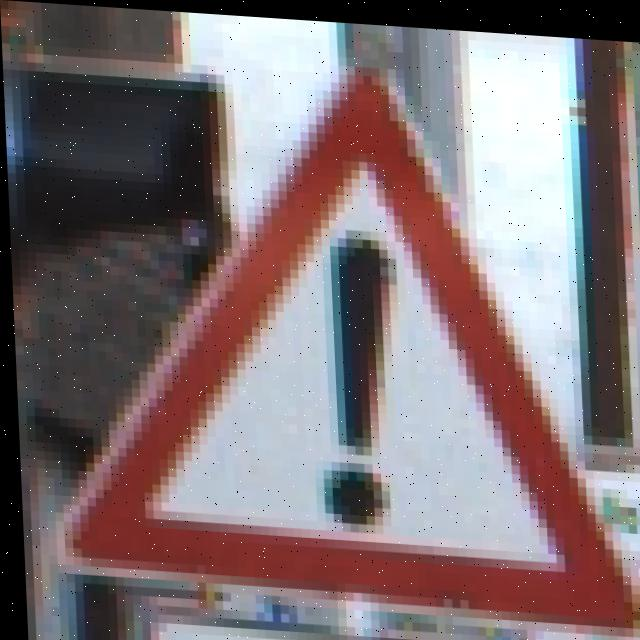warning: (147, 122, 608, 627)
